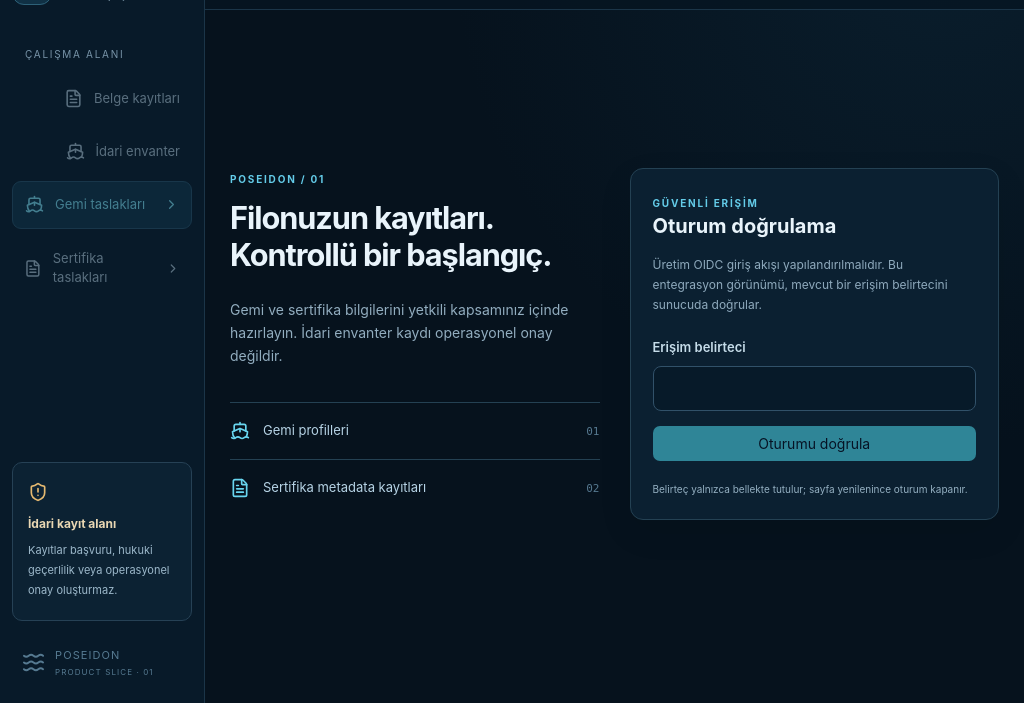
Test: inventory browsing › pages server results and resets cursor on filter and refresh
Type "token" into the password field labelled "Erişim belirteci" at (814, 388), box x1=652 y1=366 x2=976 y2=411
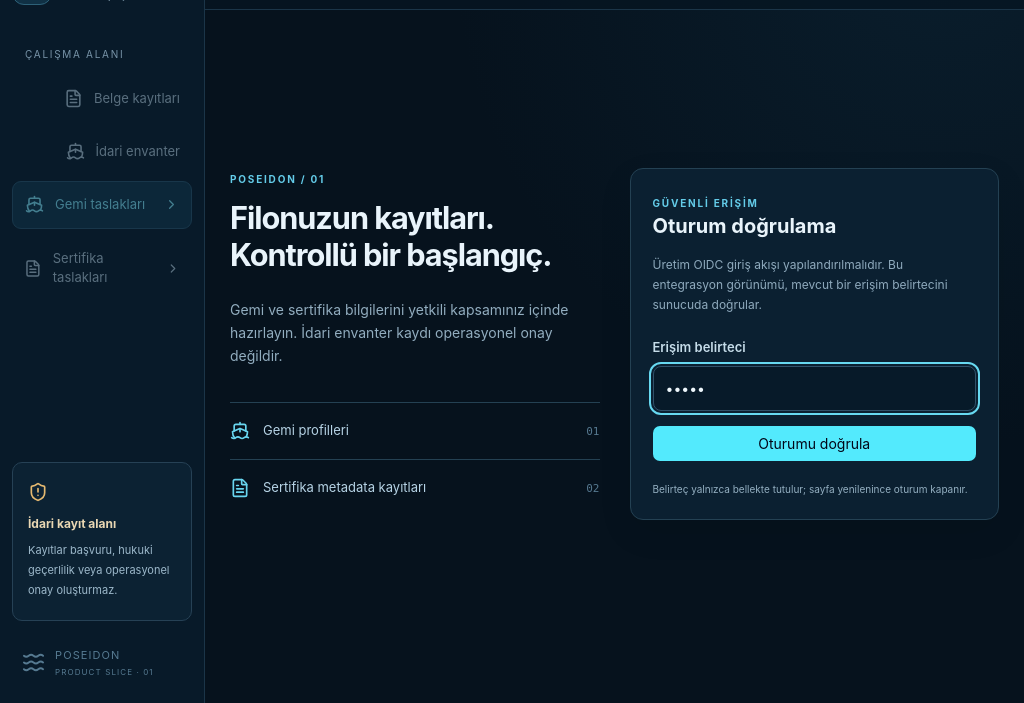
Click the button "Oturumu doğrula" at (814, 443), box x1=652 y1=426 x2=976 y2=461
(page scrolled)
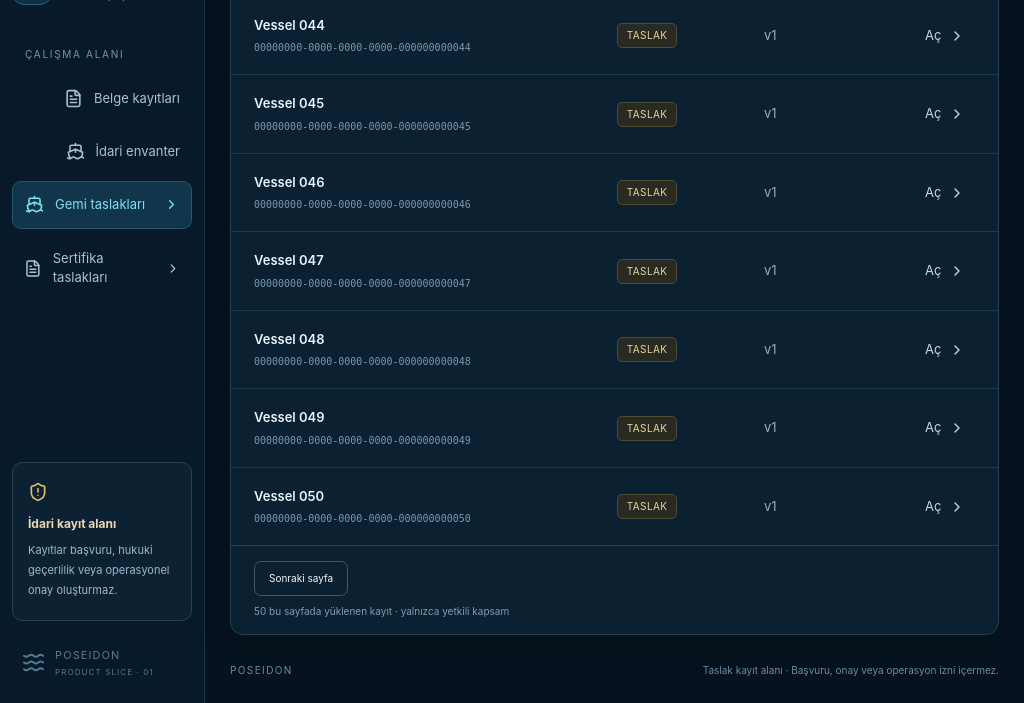
Click the button "Sonraki sayfa" at (301, 579), box x1=254 y1=561 x2=348 y2=596
(page scrolled)
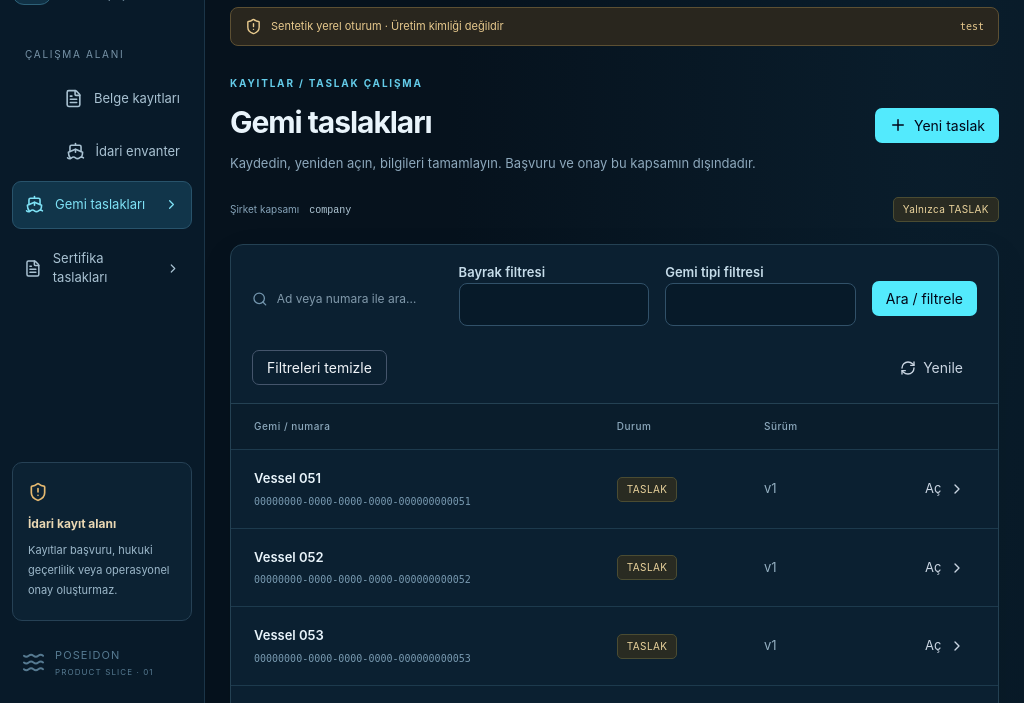
Now the text "Vessel 051" is shown, box x1=254 y1=470 x2=321 y2=486
Type "Vessel 550" into the field named "Taslaklarda ara" at (360, 299), box x1=277 y1=283 x2=443 y2=315
Type "TR" into the field labelled "Bayrak filtresi" at (554, 305), box x1=459 y1=283 x2=649 y2=326
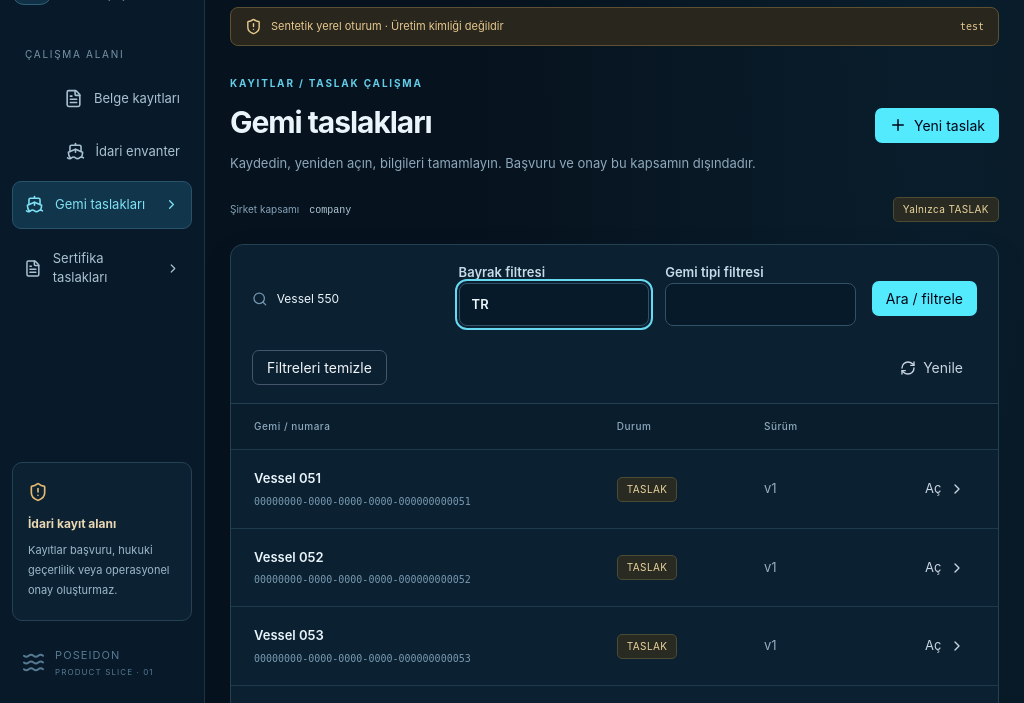
Click the button "Ara / filtrele" at (924, 299), box x1=872 y1=281 x2=977 y2=316
(page scrolled)
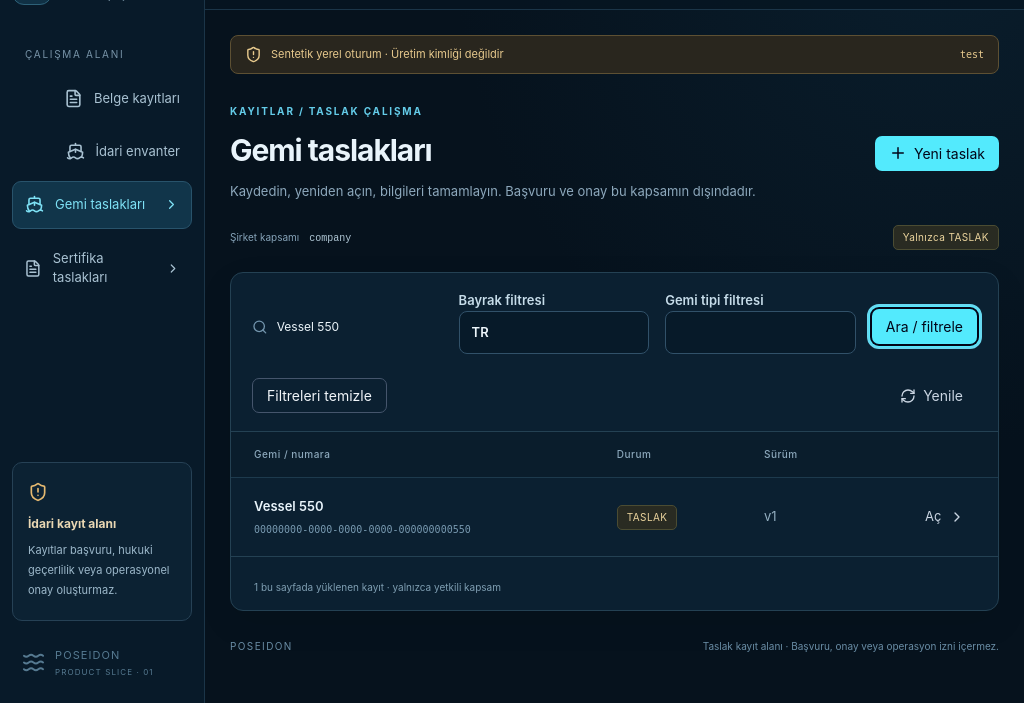
Expected: the button "Sonraki sayfa" is not shown
Now the text "Vessel 550" is shown, box x1=254 y1=498 x2=324 y2=514
Click the button "Filtreleri temizle" at (319, 396), box x1=252 y1=378 x2=387 y2=413
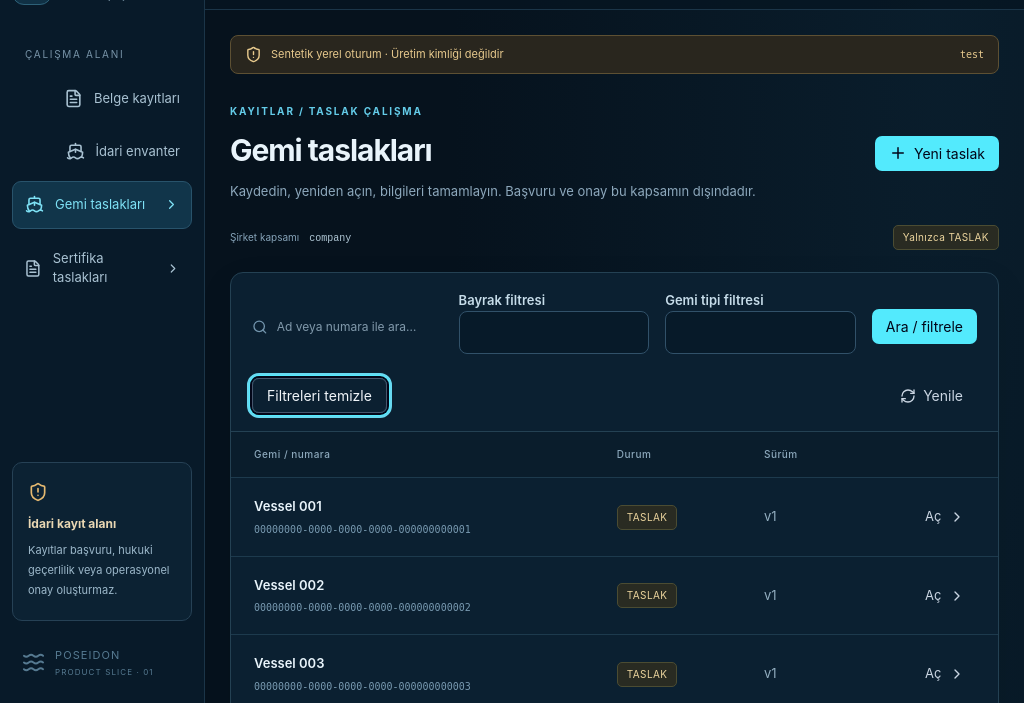
Now the text "Vessel 001" is shown, box x1=254 y1=498 x2=322 y2=514
Now the field labelled "Bayrak filtresi" is empty, box x1=459 y1=311 x2=649 y2=354
